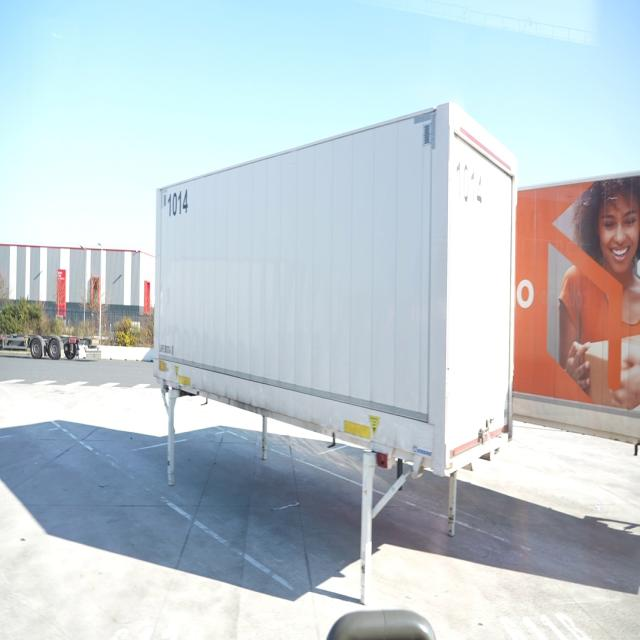Code: (164, 185, 197, 224)
